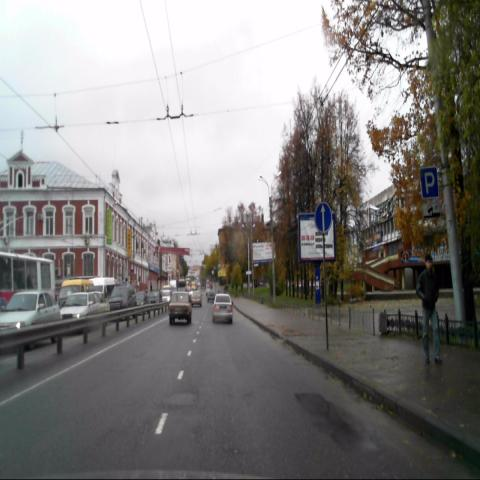8_6_2: (422, 202, 440, 218)
